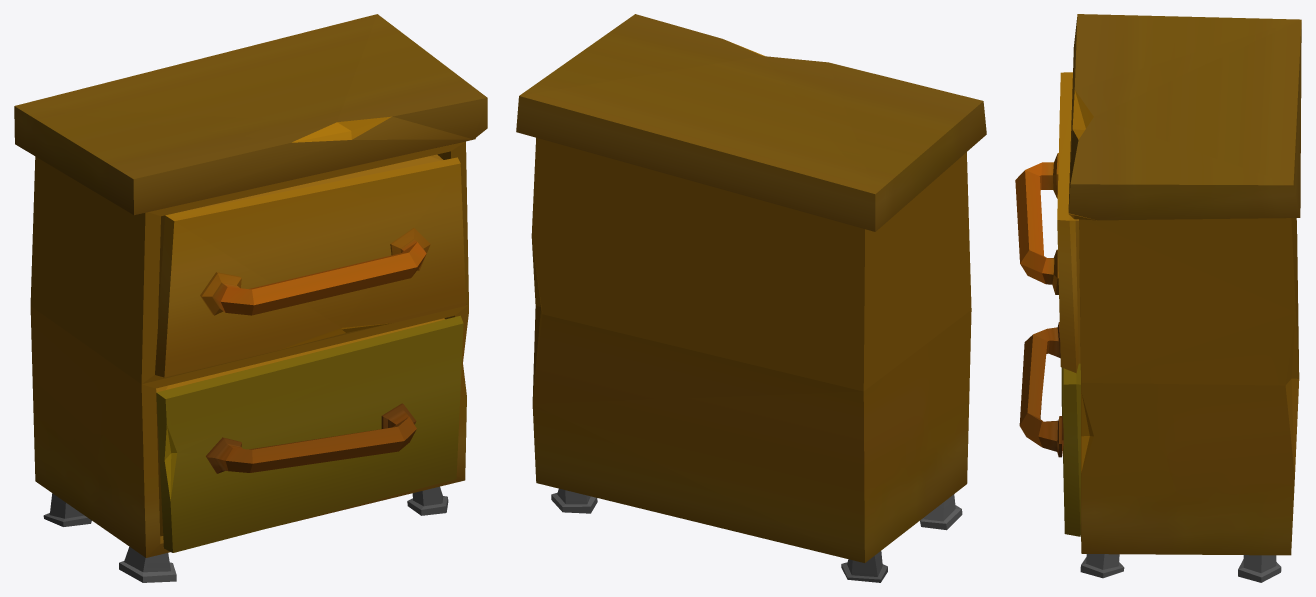
File: Night Stand.glb
3 renders of one model, left to right at view 1: azimuth 30°, elevation 25°; view 2: azimuth 150°, elevation 25°; view 3: azimuth 270°, elevation 25°, orthographic.
Visible parts, largest first — view 1: NightStand; view 2: NightStand; view 3: NightStand.
Part boxes in pixels (x1,y1,x2,y2): NightStand: (14, 14, 487, 582); NightStand: (516, 14, 986, 582); NightStand: (1015, 14, 1301, 582).
Size of what is drawn, in the model's own units: 1.52 by 1.67 by 1.06.
1 material, 1 textured.
